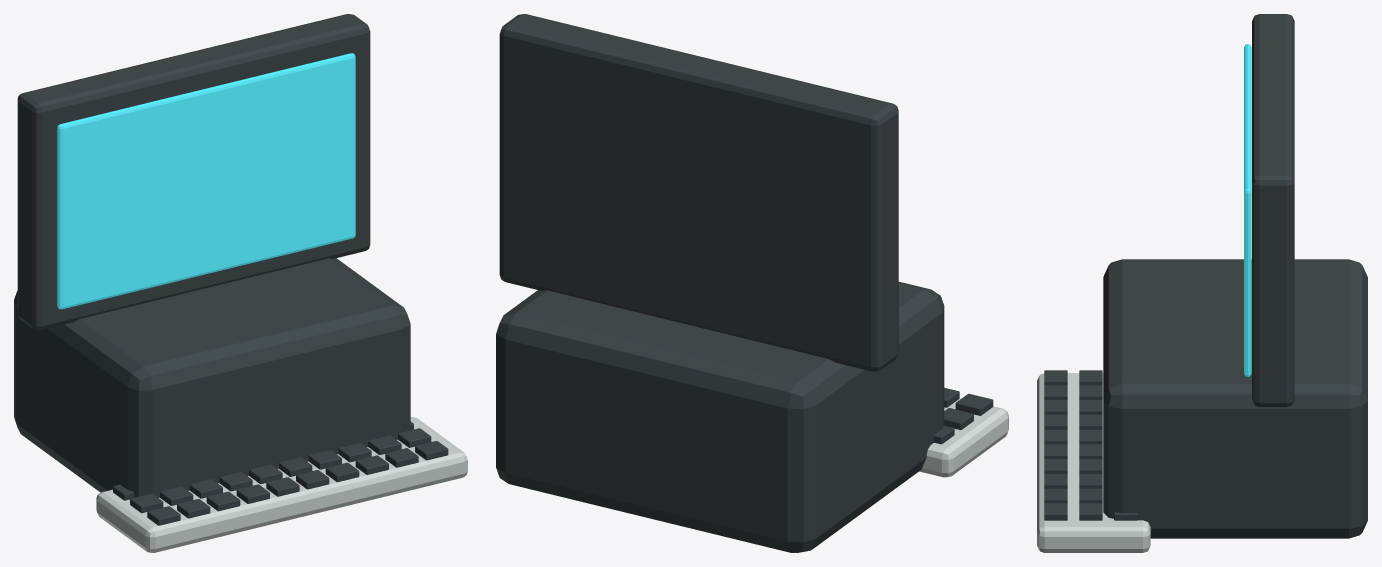
File: LabTerminal.fbx
3 views of the same model, side by side, from view 1: azimuth 30°, elevation 25°; view 2: azimuth 150°, elevation 25°; view 3: azimuth 270°, elevation 25° (orthographic). The views are drawn at different scales.
Parts seen in each view (by area): view 1: Housing, Screen, Monitor, Keyboard; view 2: Monitor, Housing, Keyboard; view 3: Housing, Monitor, Keyboard, Screen, Key.027, Key.028.
Boxes of the visible parts, <box> form: Housing: <box>14,258,410,497</box>; Screen: <box>57,53,355,309</box>; Monitor: <box>17,14,370,330</box>; Keyboard: <box>96,417,467,552</box>; Monitor: <box>499,14,898,371</box>; Housing: <box>496,281,944,552</box>; Keyboard: <box>919,398,1008,477</box>; Housing: <box>1103,259,1367,538</box>; Monitor: <box>1252,14,1294,406</box>; Keyboard: <box>1037,373,1150,552</box>; Screen: <box>1244,44,1251,376</box>; Key.027: <box>1044,503,1067,520</box>; Key.028: <box>1079,503,1102,520</box>.
Size of the model in its own units: 42 by 44.5 by 35.
